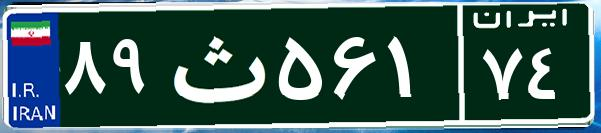1: (385, 28, 445, 110)
4: (525, 38, 570, 115)
5: (273, 28, 330, 110)
6: (330, 28, 385, 110)
7: (475, 38, 525, 113)
8: (57, 26, 110, 107)
9: (110, 28, 158, 105)
ث: (158, 15, 273, 115)
